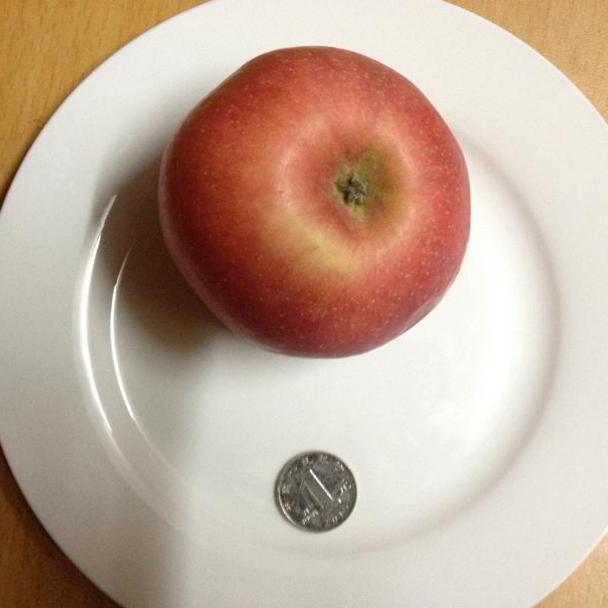apple: (157, 46, 470, 359)
